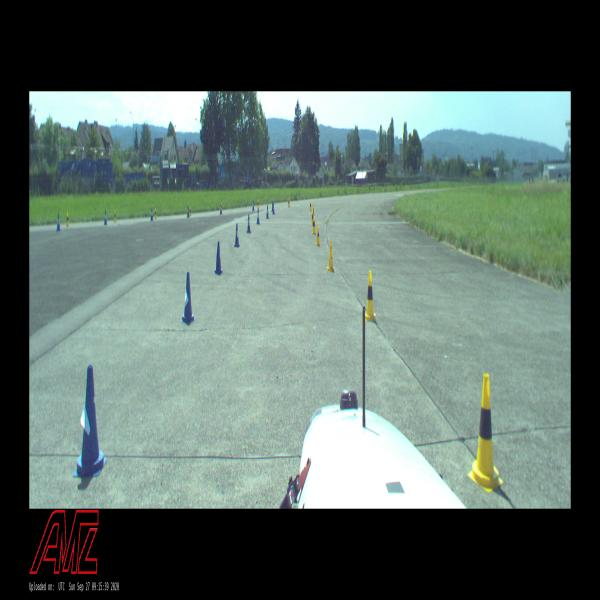blue_cone: (73, 366, 107, 478), (181, 272, 195, 324), (214, 241, 223, 275), (234, 223, 240, 247), (247, 214, 251, 233), (104, 211, 108, 225), (57, 214, 60, 231), (150, 208, 154, 220), (257, 210, 260, 225), (266, 205, 269, 218), (272, 203, 275, 213), (252, 201, 255, 211), (187, 206, 189, 217), (220, 203, 222, 214), (271, 201, 273, 211)
yellow_cone: (468, 373, 503, 492), (365, 270, 377, 321), (326, 240, 336, 272), (316, 224, 320, 246), (312, 217, 316, 234), (66, 212, 70, 226), (114, 209, 117, 221), (154, 208, 157, 219), (189, 205, 192, 216), (309, 201, 312, 211), (311, 211, 313, 225), (257, 199, 259, 210), (288, 198, 290, 208), (313, 204, 314, 214)
